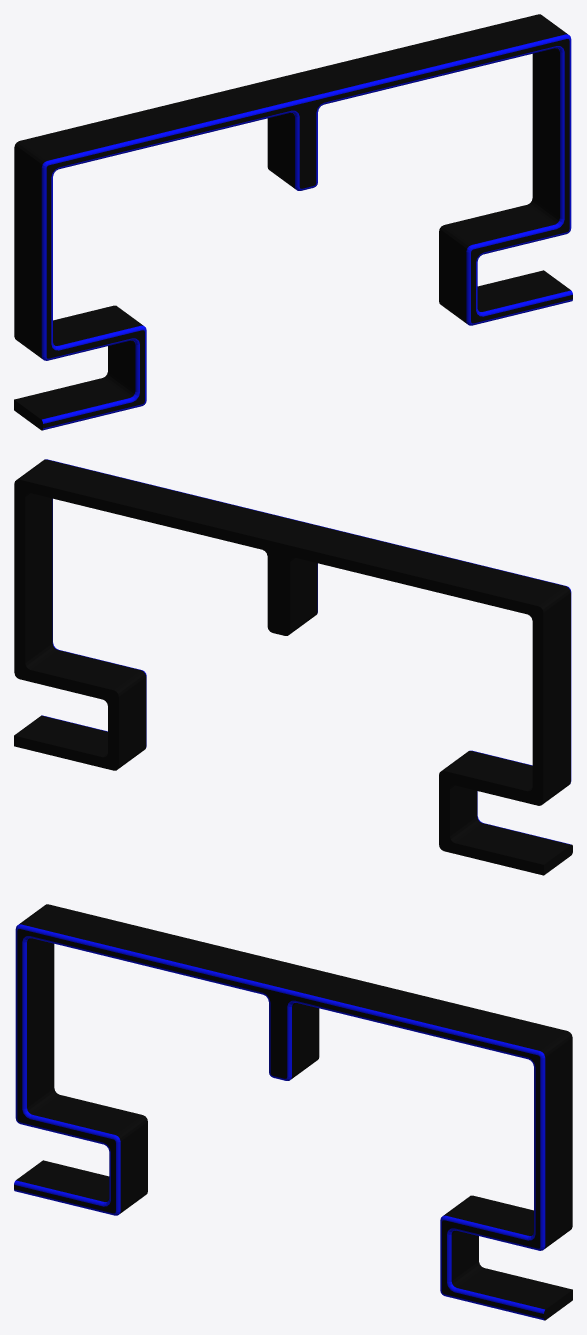
The model's file is 2_Top_Exterior_Wall.obj.
3 views of the same model, one above another, from view 1: azimuth 30°, elevation 25°; view 2: azimuth 150°, elevation 25°; view 3: azimuth 330°, elevation 25° (orthographic).
Parts seen in each view (by area): view 1: Top_Exterior_Wall_Plane.009; view 2: Top_Exterior_Wall_Plane.009; view 3: Top_Exterior_Wall_Plane.009.
Boxes of the visible parts, box(x1,y1,x2,y2) form: Top_Exterior_Wall_Plane.009: box(14, 14, 572, 430); Top_Exterior_Wall_Plane.009: box(14, 459, 572, 875); Top_Exterior_Wall_Plane.009: box(14, 904, 572, 1320).
Bounding box in the file's own units: 52.55 × 25.4 × 5.
